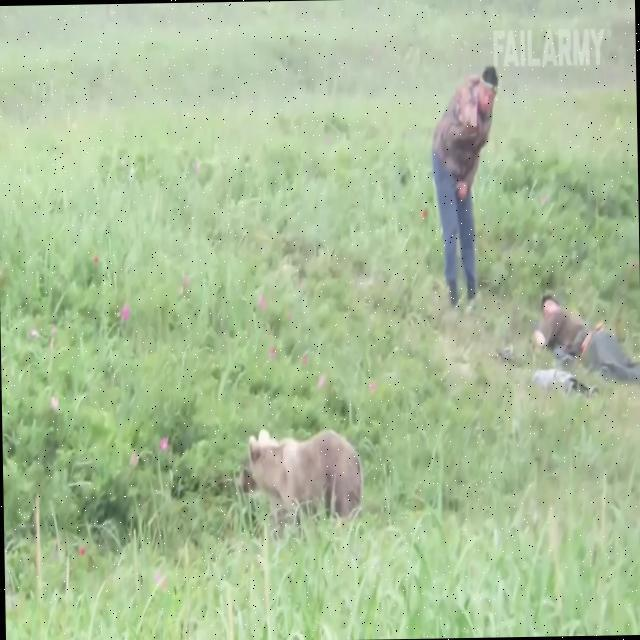person: (436, 66, 498, 301), (535, 292, 640, 394)
